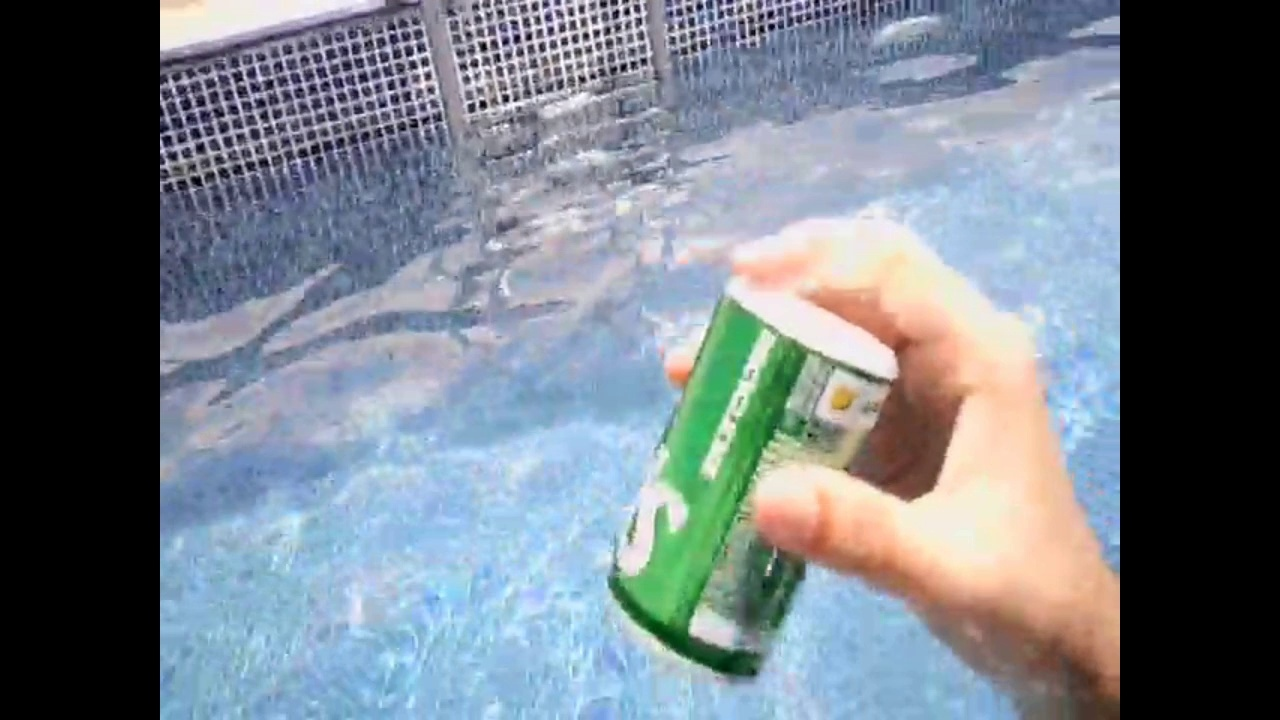debris: (578, 252, 912, 698)
